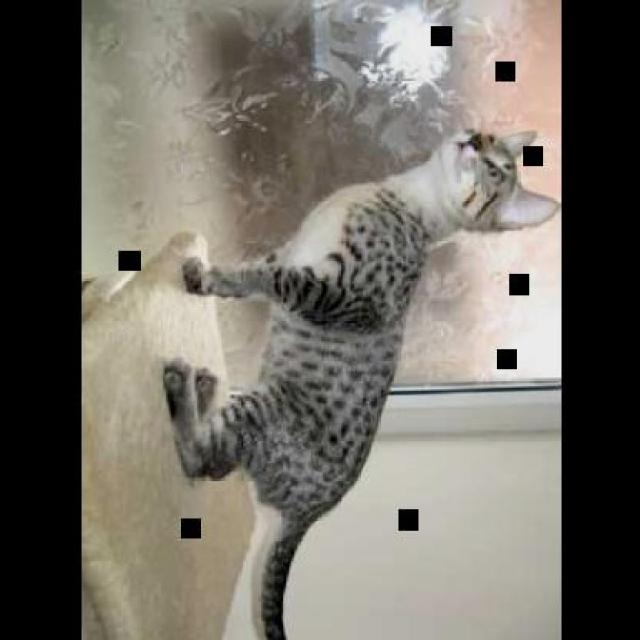unauthorized: (162, 126, 560, 639)
